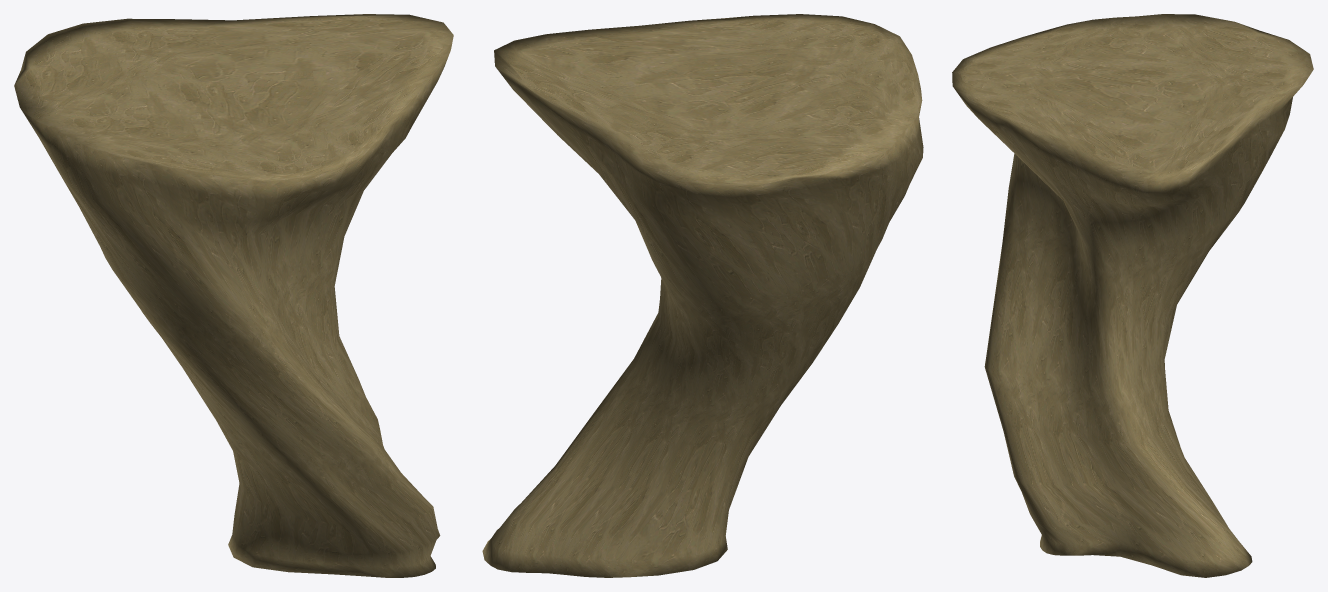
File: SB_PLATFORMC.fbx
3 views of the same model, side by side, from view 1: azimuth 30°, elevation 25°; view 2: azimuth 150°, elevation 25°; view 3: azimuth 270°, elevation 25° (orthographic). The views are drawn at different scales.
Visible parts, largest first — view 1: SB_PLATFORMC; view 2: SB_PLATFORMC; view 3: SB_PLATFORMC.
Part boxes in pixels (bbox=[...]): SB_PLATFORMC: bbox=[14, 14, 453, 577]; SB_PLATFORMC: bbox=[482, 14, 923, 577]; SB_PLATFORMC: bbox=[952, 14, 1313, 577].
Bounding box in the file's own units: 124572 × 140289 × 113670.
Materials: 1 (1 with a texture image).
